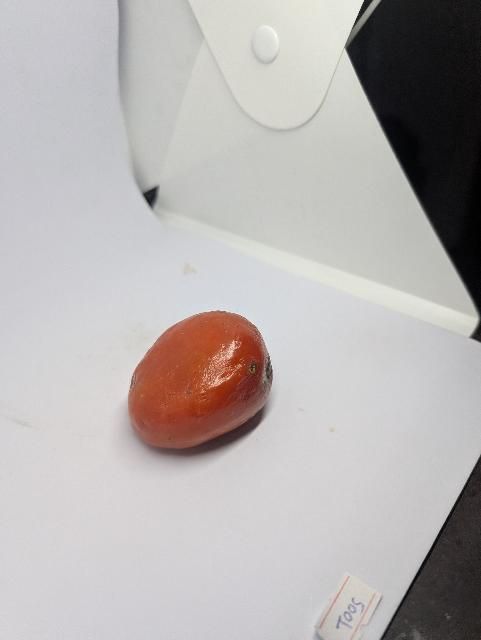defect: (123, 300, 282, 459)
